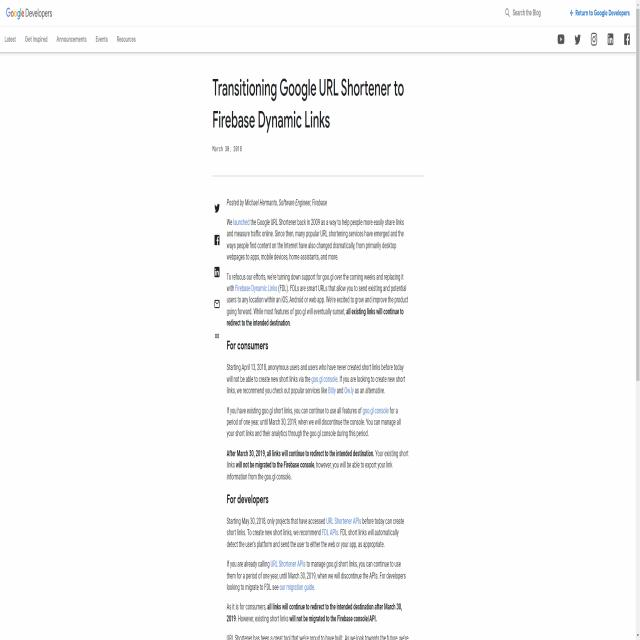search: (503, 4, 547, 22)
tab-bar: (1, 28, 137, 50)
